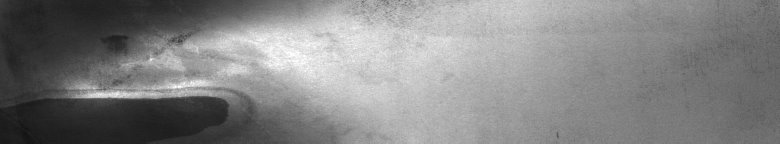ke: (4, 24, 260, 136)
